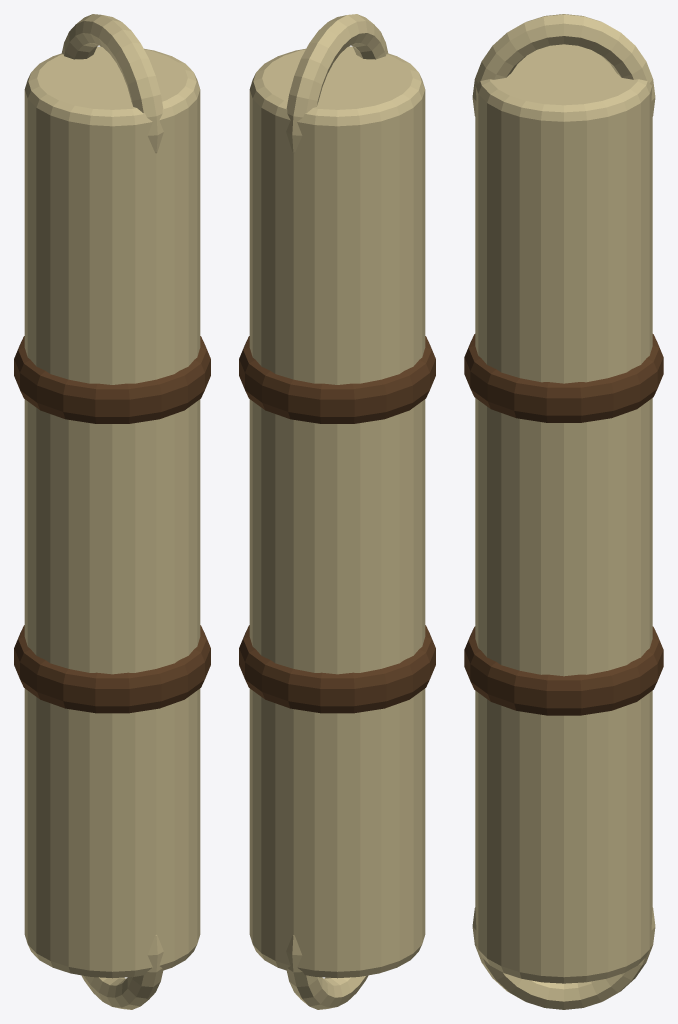
Rendered from rolled-chart.glb.
3 renders of one model, left to right at view 1: azimuth 30°, elevation 25°; view 2: azimuth 150°, elevation 25°; view 3: azimuth 270°, elevation 25°, orthographic.
Visible parts, largest first — view 1: ChartRoll, ChartTie_-0.12, ChartTie_0.12, ChartRolledEdge_0.34, ChartRolledEdge_-0.34; view 2: ChartRoll, ChartTie_-0.12, ChartTie_0.12, ChartRolledEdge_0.34, ChartRolledEdge_-0.34; view 3: ChartRoll, ChartTie_-0.12, ChartTie_0.12, ChartRolledEdge_0.34, ChartRolledEdge_-0.34.
Boxes of the visible parts, box(x1,y1,x2,y2) form: ChartRoll: box(24, 46, 200, 978); ChartTie_-0.12: box(14, 625, 210, 713); ChartTie_0.12: box(14, 336, 210, 423); ChartRolledEdge_0.34: box(61, 14, 163, 153); ChartRolledEdge_-0.34: box(81, 935, 163, 1009); ChartRoll: box(249, 46, 425, 978); ChartTie_-0.12: box(239, 625, 435, 713); ChartTie_0.12: box(239, 336, 435, 423); ChartRolledEdge_0.34: box(286, 14, 388, 153); ChartRolledEdge_-0.34: box(286, 935, 368, 1009); ChartRoll: box(475, 44, 652, 983); ChartTie_-0.12: box(464, 626, 663, 715); ChartTie_0.12: box(464, 334, 663, 422); ChartRolledEdge_0.34: box(472, 14, 655, 116); ChartRolledEdge_-0.34: box(472, 907, 655, 1009).
Size of the model in its own units: 0.1458 by 0.816 by 0.148.
